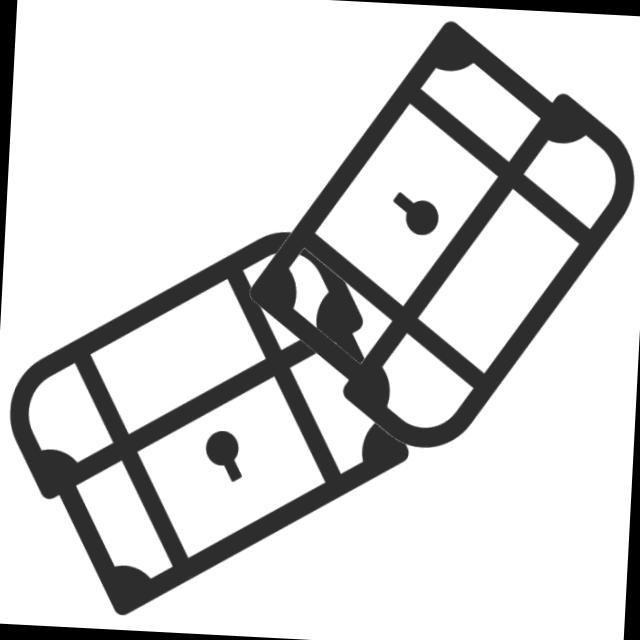treasure_box: (231, 3, 640, 472), (1, 210, 430, 636)
